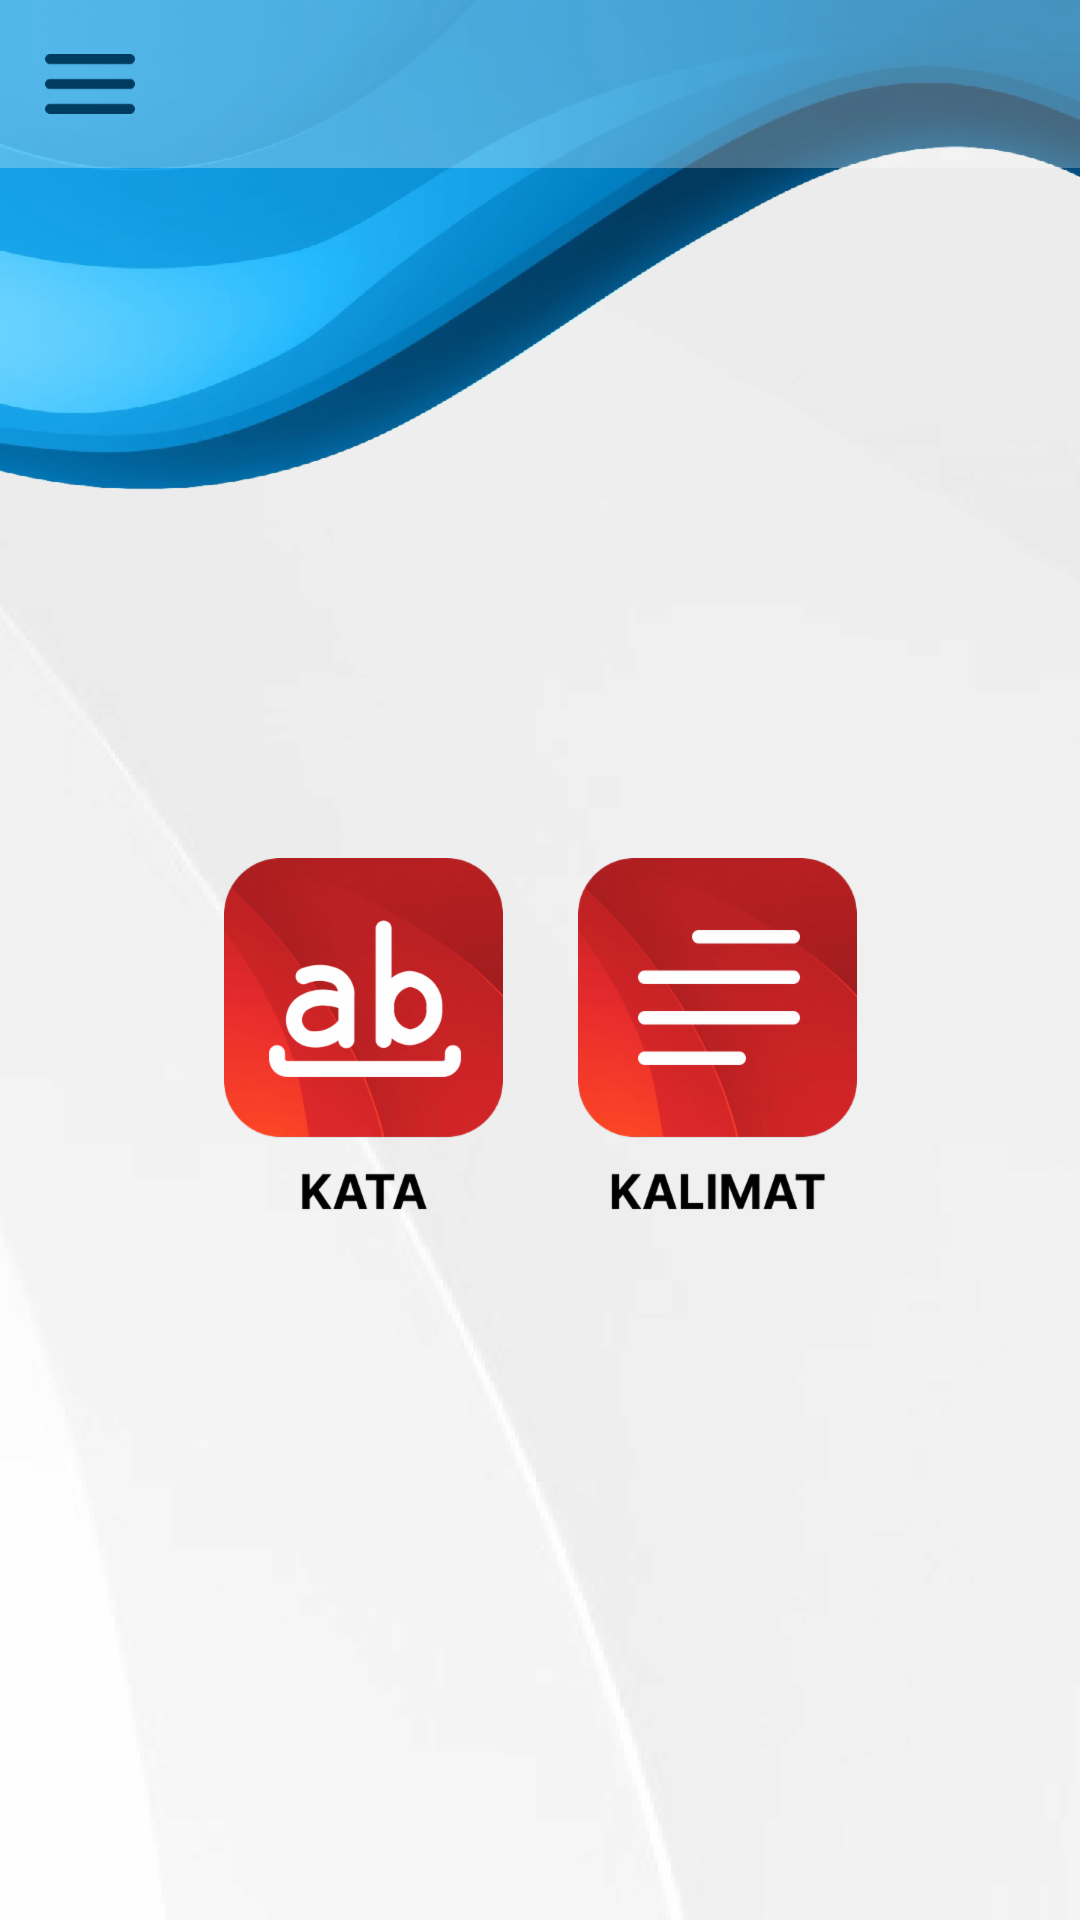

Screen size 1080 x 1920. Icon name, then its box in pixels as bbox=(x1, y1, x2, y2):
btnmenu: bbox=(45, 54, 135, 114)
